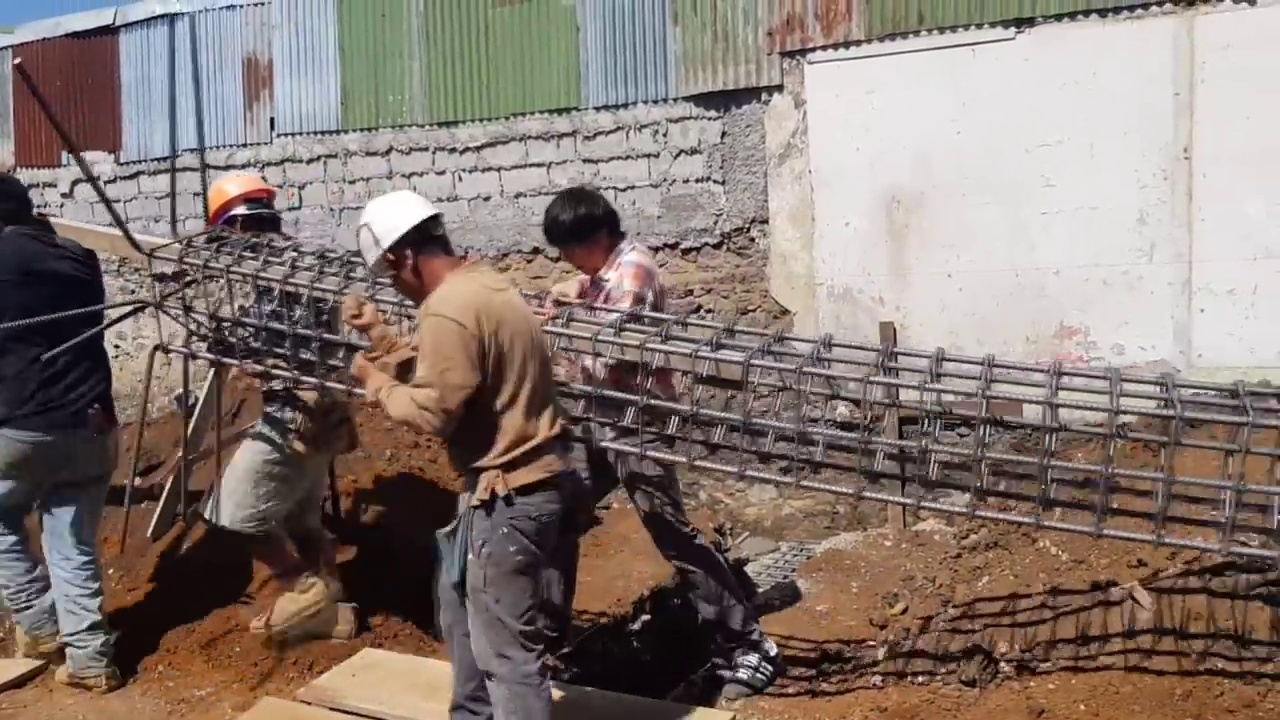helmet: (358, 191, 446, 276), (199, 168, 276, 223)
helmet-off: (543, 188, 627, 290), (0, 172, 40, 232)
helmet-on: (358, 190, 472, 310), (197, 165, 283, 238)
person: (542, 187, 782, 700), (341, 190, 566, 720), (198, 169, 336, 630), (0, 172, 120, 694)
